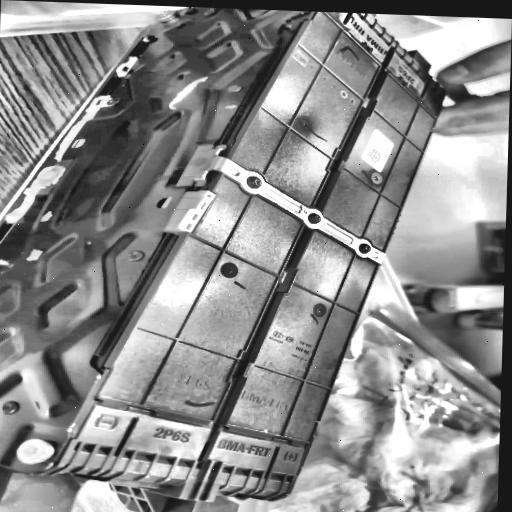battery_module: (38, 12, 446, 503)
